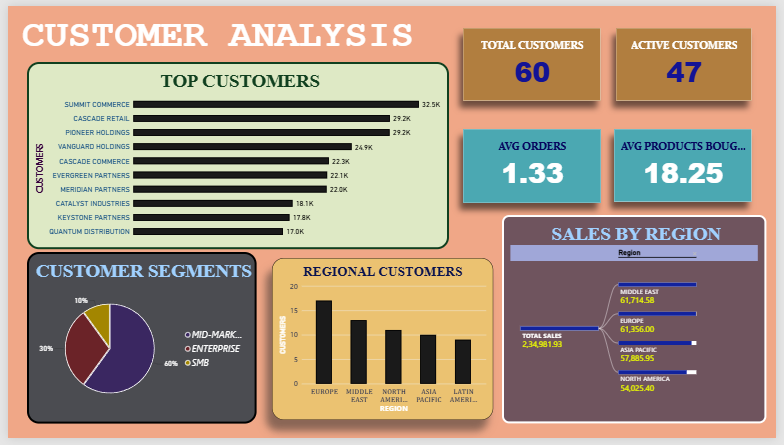

Layout of this report page (visuals, bound fields, positions):
{"tool":"powerbi","page":{"name":"Page 2","canvas":[1920,1080],"ordinal":1},"visuals":[{"type":"textbox","box":[35.7,19,1007.1,169],"z":0},{"type":"barChart","title":"TOP CUSTOMERS","fields":{"Y":["Sum(FACT_ORDERS.LineTotal)"],"Category":["DIM_CUSTOMERS.CustomerName"]},"box":[47.4,139.5,1055.3,468.4],"z":1000},{"type":"cardVisual","fields":{"Data":["_measures.Total_Base_Customers"]},"box":[1102.4,19,414.3,252.4],"z":2000},{"type":"cardVisual","fields":{"Data":["_measures.Total_Active_Customers"]},"box":[1485.7,19,409.5,252.4],"z":3000},{"type":"cardVisual","fields":{"Data":["_measures.AVG PRODUCTS BOUGHT"]},"box":[1481,271.4,414.3,252.4],"z":4000},{"type":"pieChart","title":"CUSTOMER SEGMENTS","fields":{"Category":["DIM_CUSTOMERS.Segment"],"Y":["CountNonNull(DIM_CUSTOMERS.CustomerName)"]},"box":[47.4,615.8,573.8,428.6],"z":5000},{"type":"decompositionTreeVisual","title":"SALES BY REGION","fields":{"ExplainBy":["DIM_CUSTOMERS.Region"],"Analyze":["_measures.TOTAL SALES"]},"box":[1234.2,523.7,660.5,521.1],"z":6000},{"type":"clusteredColumnChart","title":"REGIONAL CUSTOMERS","fields":{"Category":["DIM_CUSTOMERS.Region"],"Y":["_measures.Total_Base_Customers"]},"box":[660.5,628.9,552.6,405.3],"z":7000},{"type":"cardVisual","fields":{"Data":["_measures.AVG ORDERS"]},"box":[1102.5,272.5,415,255],"z":8000}]}

Visuals, with their boxes in screenshot pixels (x1, y1, x2, y2), scaled from the page's 1920x1080 canvas onto the 784x445 screenshot:
textbox: {"x1": 15, "y1": 8, "x2": 426, "y2": 77}
"TOP CUSTOMERS" barChart: {"x1": 19, "y1": 57, "x2": 450, "y2": 250}
cardVisual - _measures.Total_Base_Customers: {"x1": 450, "y1": 8, "x2": 619, "y2": 112}
cardVisual - _measures.Total_Active_Customers: {"x1": 607, "y1": 8, "x2": 774, "y2": 112}
cardVisual - _measures.AVG PRODUCTS BOUGHT: {"x1": 605, "y1": 112, "x2": 774, "y2": 216}
"CUSTOMER SEGMENTS" pieChart: {"x1": 19, "y1": 254, "x2": 254, "y2": 430}
"SALES BY REGION" decompositionTreeVisual: {"x1": 504, "y1": 216, "x2": 774, "y2": 430}
"REGIONAL CUSTOMERS" clusteredColumnChart: {"x1": 270, "y1": 259, "x2": 495, "y2": 426}
cardVisual - _measures.AVG ORDERS: {"x1": 450, "y1": 112, "x2": 620, "y2": 217}
